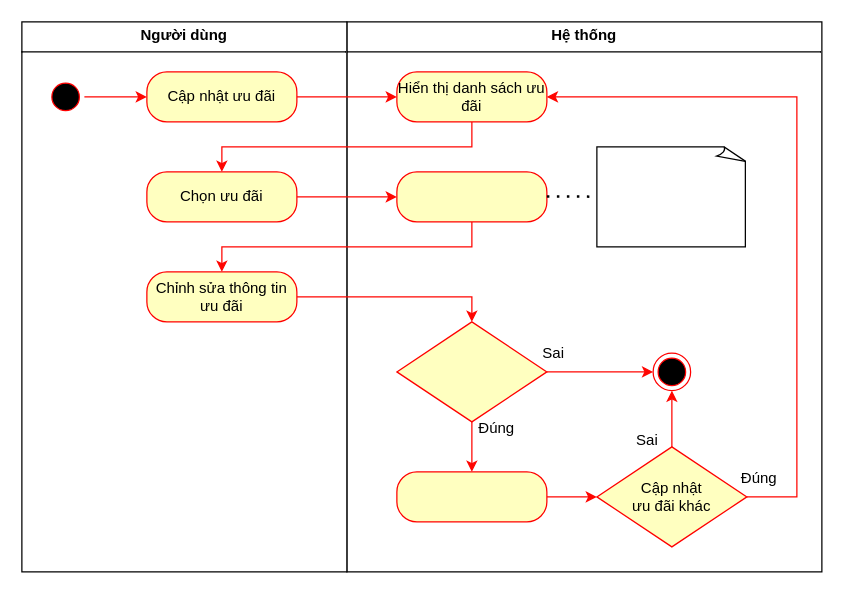
The diagram is 844 pixels wide and 594 high, and some of its shapes have lost their labels. Here are the shapes that lost their labels. From the top down, the centre of each, then its label:
the point at 471,196: Hiển thị thông tin ưu đãi
the point at 671,196: Tên ưu đãi, thời gian bắt đầu / kết thúc ưu đãi, nội dung ưu đãi, phạm vị ưu đãi
the point at 471,371: Xác nhận chỉnh sửa thông tin ưu đãi
the point at 471,496: Cập nhật thông tin ưu đãi vào CSDL
